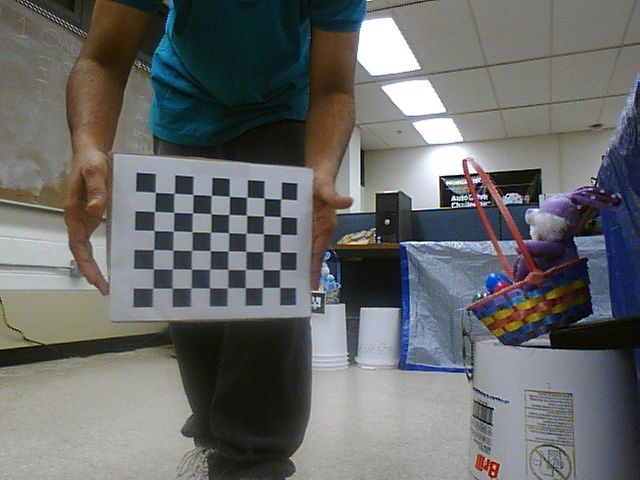bunny: (451, 149, 613, 357)
